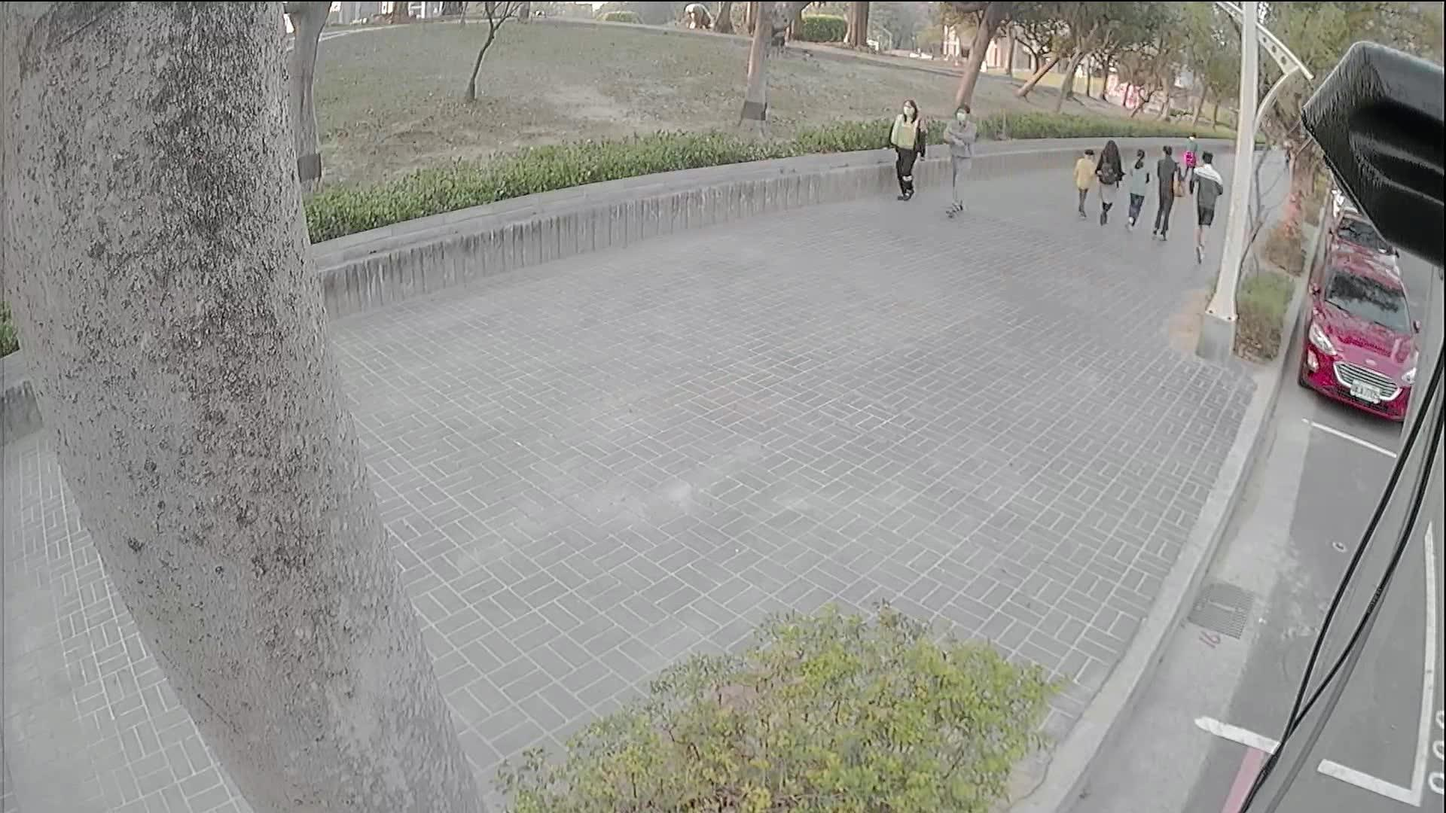person: (1185, 152, 1221, 264), (944, 105, 978, 209), (889, 98, 924, 198), (1151, 144, 1185, 236), (1121, 145, 1154, 232), (1095, 138, 1119, 224), (1068, 145, 1096, 215), (1181, 129, 1197, 163)
